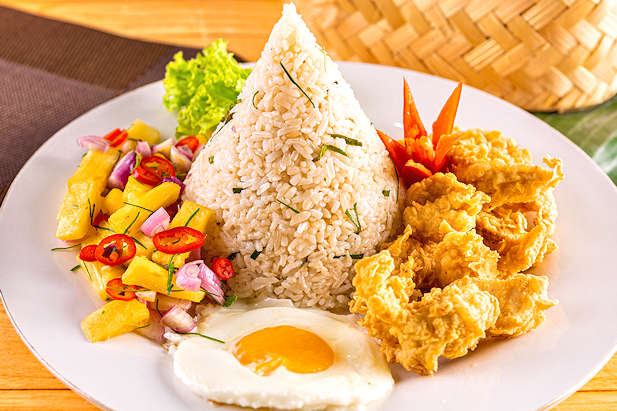buah_sayur_vitA: (89, 124, 179, 306)
daging: (424, 192, 513, 332)
makanan_berpati: (261, 77, 329, 263)
telur: (214, 325, 347, 388)
